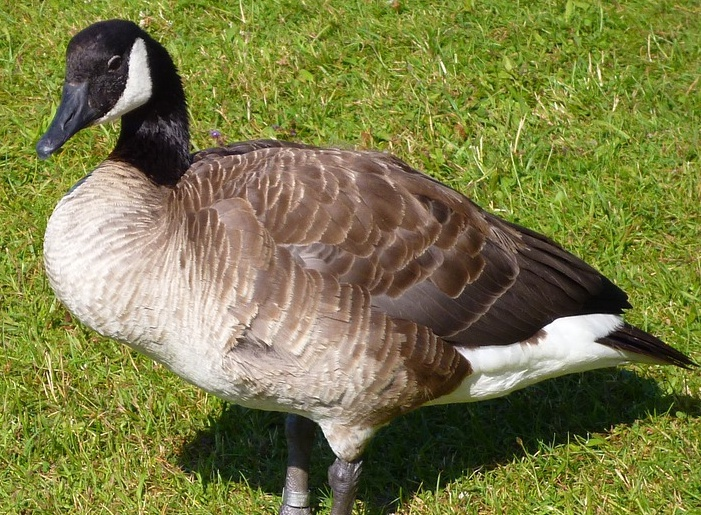goose: (28, 14, 701, 507)
